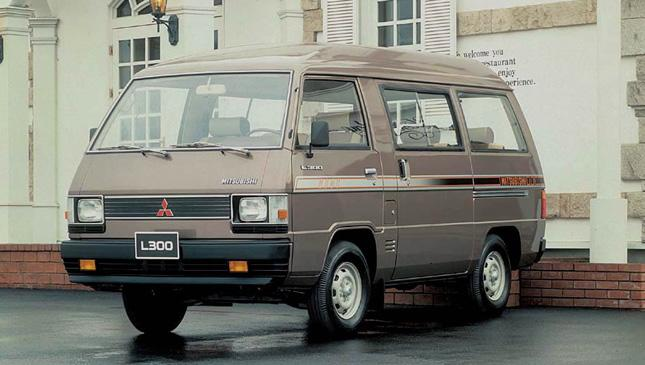car: (49, 41, 552, 342)
